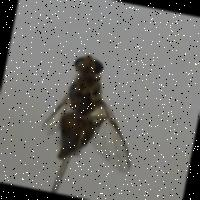Oriental-fruit-fly: (24, 38, 161, 180)
